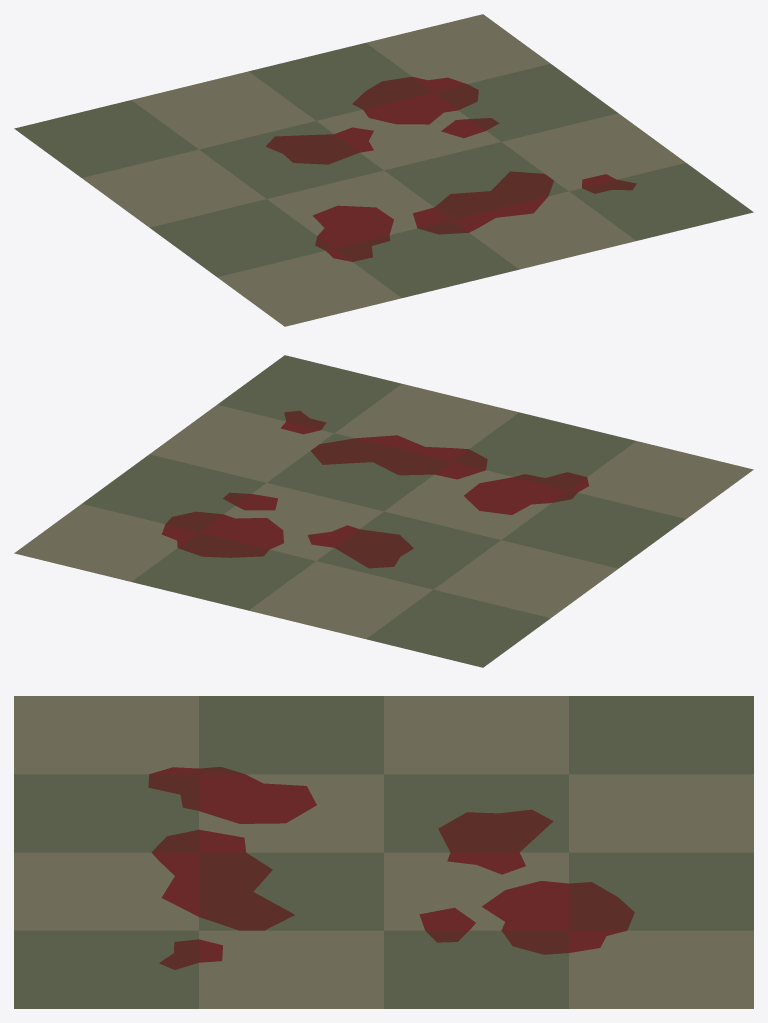
File: AI_Env_Floor_03_Bloodstained_Small.fbx
The picture shows the model from 3 angles, top to bottom: view 1: azimuth 30°, elevation 25°; view 2: azimuth 150°, elevation 25°; view 3: azimuth 270°, elevation 25°; orthographic projection. The views are drawn at different scales.
Visible parts, largest first — view 1: AI_Env_Floor_03_Bloodstained_Small; view 2: AI_Env_Floor_03_Bloodstained_Small; view 3: AI_Env_Floor_03_Bloodstained_Small.
Boxes of the visible parts, bbox=[...] form: AI_Env_Floor_03_Bloodstained_Small: bbox=[14, 14, 753, 326]; AI_Env_Floor_03_Bloodstained_Small: bbox=[14, 355, 753, 667]; AI_Env_Floor_03_Bloodstained_Small: bbox=[14, 696, 753, 1008].
Size of the model in its own units: 5 by 1.78e-15 by 5.
